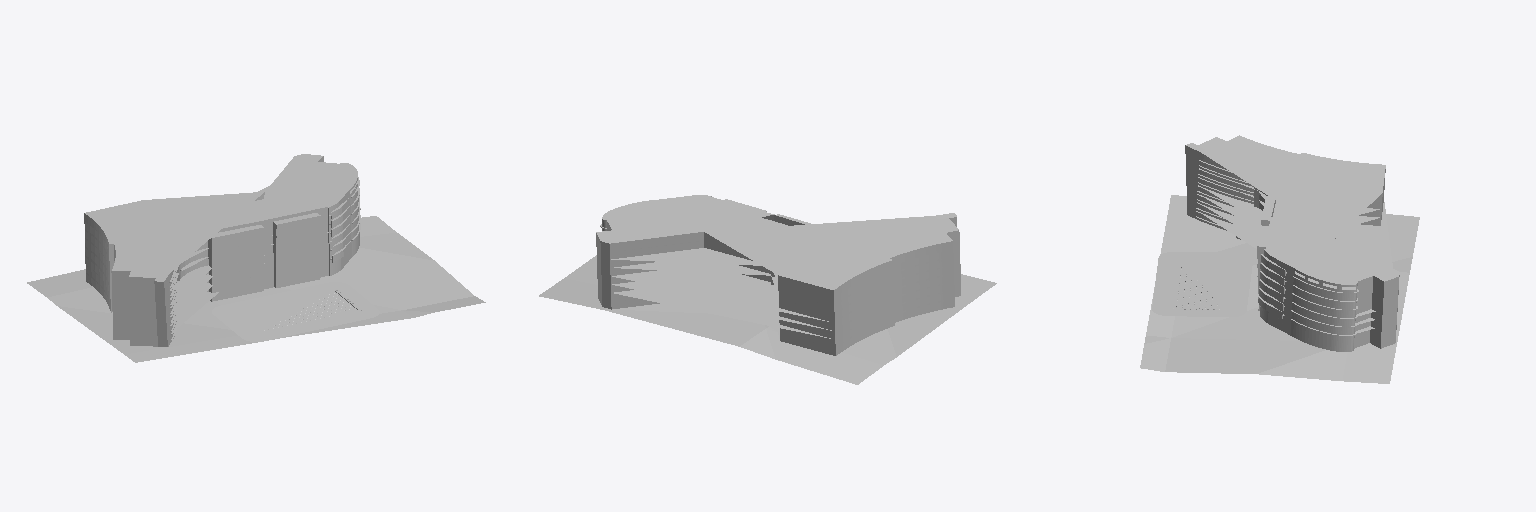
File: Cityu bank of China model.obj
The picture shows the model from 3 angles: view 1: azimuth 30°, elevation 25°; view 2: azimuth 150°, elevation 25°; view 3: azimuth 270°, elevation 25°; orthographic projection.
Visible parts, largest first — view 1: Mesh430 Group1 GtoRoof_new2_Google_Map1 Model, Mesh431 Google_Earth_Terrain GtoRoof_new2_Google_Map1 Model, Mesh460 Group32 Untitled1 Model, Mesh453 Component_15_1 Group32 Untitled1 Model, Mesh12 Group2 Group1 GtoRoof_new2_Google_Map1 Model; view 2: Mesh430 Group1 GtoRoof_new2_Google_Map1 Model, Mesh431 Google_Earth_Terrain GtoRoof_new2_Google_Map1 Model, Mesh174 Windows1_bar1 Group1 GtoRoof_new2_Google_Map1 Model; view 3: Mesh430 Group1 GtoRoof_new2_Google_Map1 Model, Mesh431 Google_Earth_Terrain GtoRoof_new2_Google_Map1 Model, Mesh460 Group32 Untitled1 Model, Mesh453 Component_15_1 Group32 Untitled1 Model, Mesh12 Group2 Group1 GtoRoof_new2_Google_Map1 Model.
Part boxes in pixels (x1,y1,x2,y2): Mesh430 Group1 GtoRoof_new2_Google_Map1 Model: (84, 154, 359, 346); Mesh431 Google_Earth_Terrain GtoRoof_new2_Google_Map1 Model: (27, 216, 485, 362); Mesh460 Group32 Untitled1 Model: (229, 289, 362, 334); Mesh453 Component_15_1 Group32 Untitled1 Model: (212, 282, 379, 341); Mesh12 Group2 Group1 GtoRoof_new2_Google_Map1 Model: (154, 274, 170, 346); Mesh430 Group1 GtoRoof_new2_Google_Map1 Model: (596, 195, 960, 355); Mesh431 Google_Earth_Terrain GtoRoof_new2_Google_Map1 Model: (539, 255, 996, 384); Mesh174 Windows1_bar1 Group1 GtoRoof_new2_Google_Map1 Model: (611, 241, 702, 258); Mesh430 Group1 GtoRoof_new2_Google_Map1 Model: (1196, 135, 1399, 351); Mesh431 Google_Earth_Terrain GtoRoof_new2_Google_Map1 Model: (1140, 195, 1419, 383); Mesh460 Group32 Untitled1 Model: (1168, 258, 1236, 310); Mesh453 Component_15_1 Group32 Untitled1 Model: (1152, 252, 1252, 316); Mesh12 Group2 Group1 GtoRoof_new2_Google_Map1 Model: (1185, 143, 1204, 218).
Size of the model in its own units: 174538 by 40620 by 120839.